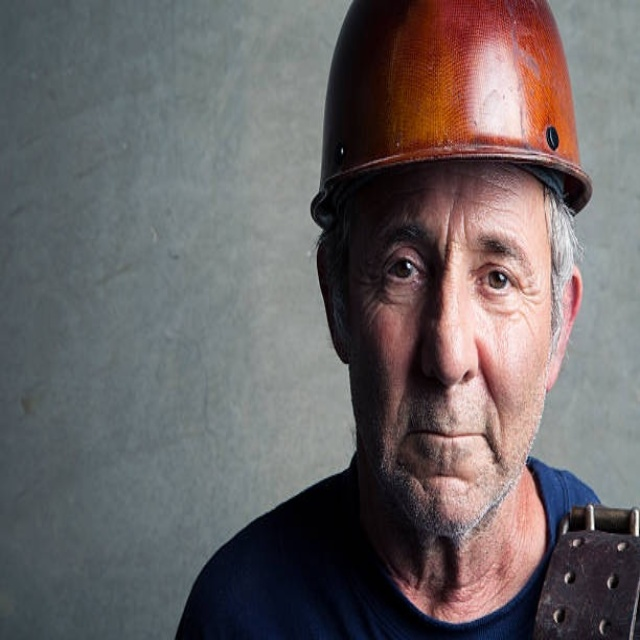Sin_gafas: (367, 223, 532, 331)
Sin_mascara: (390, 400, 504, 513)
